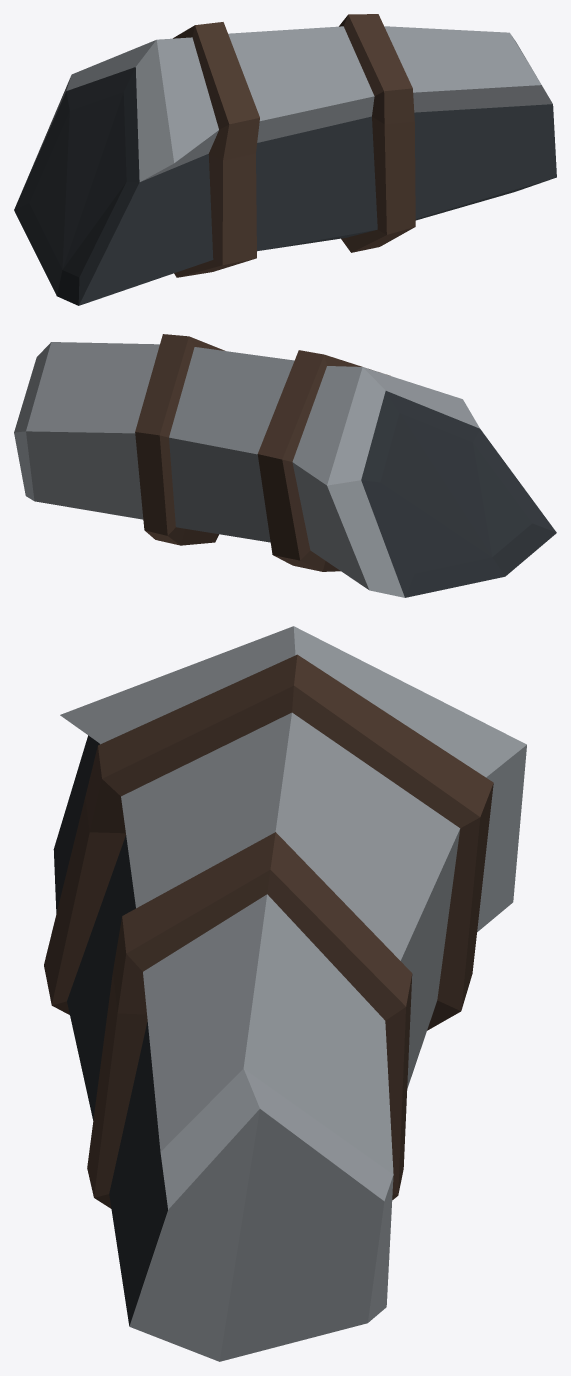
File: Chr_ArmUpperLeft_Female_07_Static.fbx
3 renders of one model, top to bottom at view 1: azimuth 30°, elevation 25°; view 2: azimuth 150°, elevation 25°; view 3: azimuth 270°, elevation 25°, orthographic. The views are drawn at different scales.
Parts seen in each view (by area): view 1: Chr_ArmUpperLeft_Female_07_Static; view 2: Chr_ArmUpperLeft_Female_07_Static; view 3: Chr_ArmUpperLeft_Female_07_Static.
Part boxes in pixels (x1=…): Chr_ArmUpperLeft_Female_07_Static: x1=14, y1=14, x2=556, y2=305; Chr_ArmUpperLeft_Female_07_Static: x1=14, y1=334, x2=556, y2=597; Chr_ArmUpperLeft_Female_07_Static: x1=44, y1=626, x2=526, y2=1361.
Bounding box in the file's own units: 0.3535 × 0.1649 × 0.1539.
